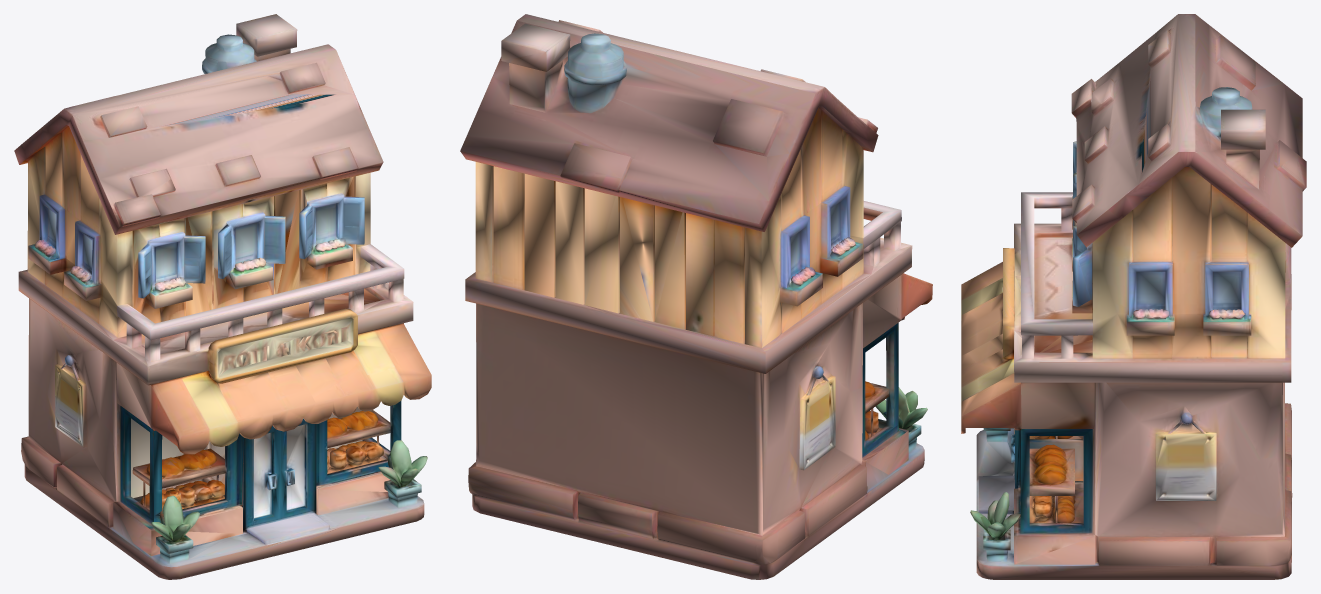
File: roti-kopi.glb
3 renders of one model, left to right at view 1: azimuth 30°, elevation 25°; view 2: azimuth 150°, elevation 25°; view 3: azimuth 270°, elevation 25°, orthographic. The views are drawn at different scales.
Parts seen in each view (by area): view 1: node_0; view 2: node_0; view 3: node_0.
Boxes of the visible parts, box(x1,y1,x2,y2) form: node_0: box(14, 14, 431, 579); node_0: box(460, 14, 932, 579); node_0: box(961, 14, 1306, 579).
Bounding box in the file's own units: 0.6402 × 0.8909 × 0.6296.
1 material, 1 textured.
